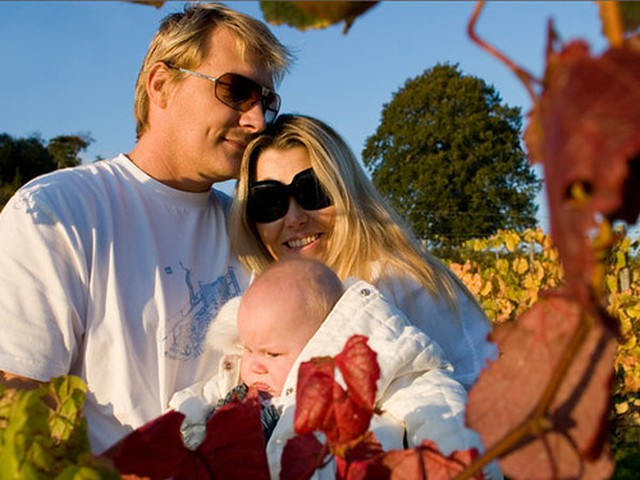Person: (10, 11, 496, 473)
